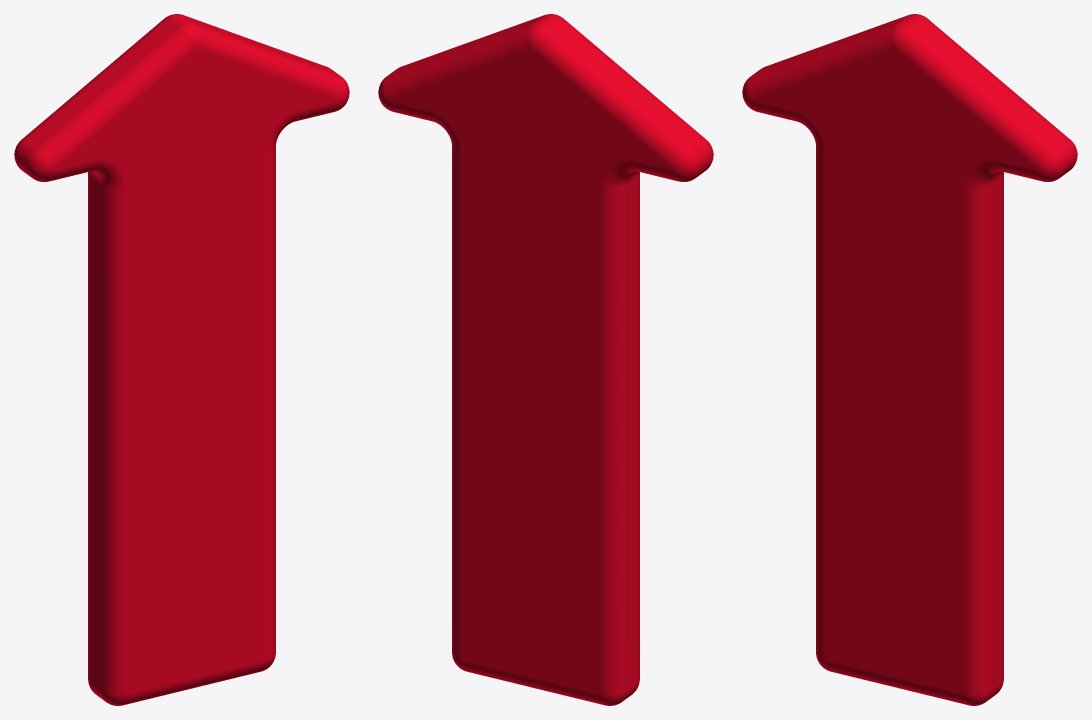
The model's file is Arrow2.fbx.
The picture shows the model from 3 angles, left to right: view 1: azimuth 30°, elevation 25°; view 2: azimuth 150°, elevation 25°; view 3: azimuth 330°, elevation 25°; orthographic projection.
Parts seen in each view (by area): view 1: Modern+Arrow; view 2: Modern+Arrow; view 3: Modern+Arrow.
Part boxes in pixels (bbox=[...]): Modern+Arrow: bbox=[14, 14, 349, 705]; Modern+Arrow: bbox=[378, 14, 713, 705]; Modern+Arrow: bbox=[742, 14, 1077, 705].
Size of the model in its own units: 1854 by 3677 by 300.
